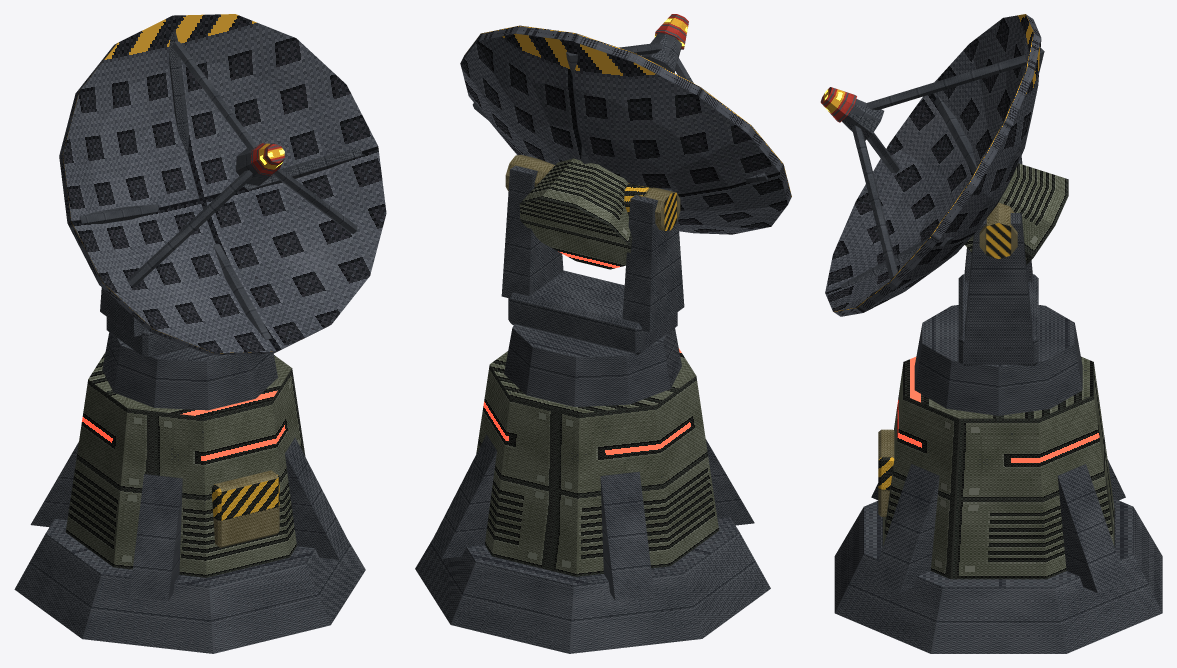
File: radar_dish.glb
3 views of the same model, side by side, from view 1: azimuth 30°, elevation 25°; view 2: azimuth 150°, elevation 25°; view 3: azimuth 270°, elevation 25° (orthographic).
Visible parts, largest first — view 1: radar_dish__mil_metal_deck, radar_dish__mil_dark_steel, radar_dish__mil_bunker_armor, radar_dish__mil_hazard_trim, radar_dish__mil_plasma_drum; view 2: radar_dish__mil_dark_steel, radar_dish__mil_bunker_armor, radar_dish__mil_metal_deck, radar_dish__mil_hazard_trim, radar_dish__mil_plasma_drum; view 3: radar_dish__mil_dark_steel, radar_dish__mil_bunker_armor, radar_dish__mil_metal_deck, radar_dish__mil_hazard_trim, radar_dish__mil_plasma_drum.
Boxes of the visible parts, x1,y1,x2,y2 form: radar_dish__mil_metal_deck: [59, 14, 386, 355]; radar_dish__mil_dark_steel: [14, 31, 365, 653]; radar_dish__mil_bunker_armor: [65, 352, 305, 577]; radar_dish__mil_hazard_trim: [212, 470, 279, 547]; radar_dish__mil_plasma_drum: [251, 143, 284, 175]; radar_dish__mil_dark_steel: [415, 33, 770, 653]; radar_dish__mil_bunker_armor: [476, 158, 718, 576]; radar_dish__mil_metal_deck: [460, 25, 791, 234]; radar_dish__mil_hazard_trim: [505, 154, 680, 230]; radar_dish__mil_plasma_drum: [654, 14, 688, 49]; radar_dish__mil_dark_steel: [834, 48, 1162, 653]; radar_dish__mil_bunker_armor: [882, 163, 1114, 579]; radar_dish__mil_metal_deck: [825, 14, 1041, 316]; radar_dish__mil_hazard_trim: [878, 202, 1017, 516]; radar_dish__mil_plasma_drum: [820, 87, 856, 122].
Size of the model in its own units: 2.48 by 4.26 by 2.39.
Materials: 5 (5 with a texture image).
